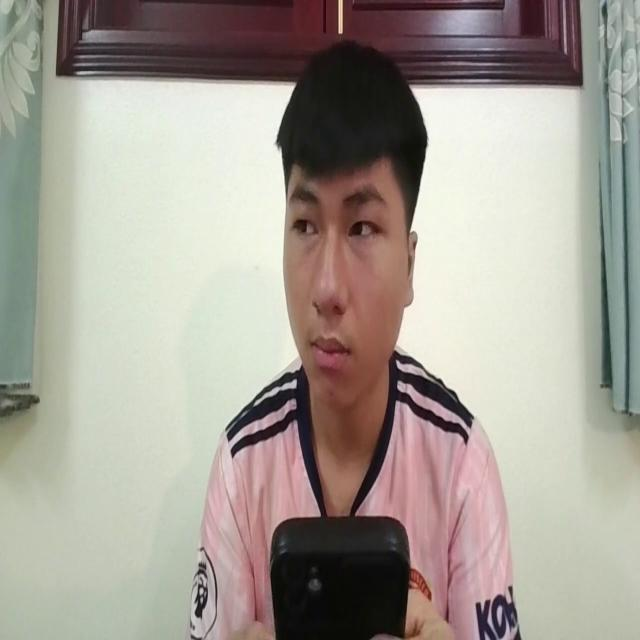phone: (266, 504, 412, 640)
student: (189, 31, 519, 640)
